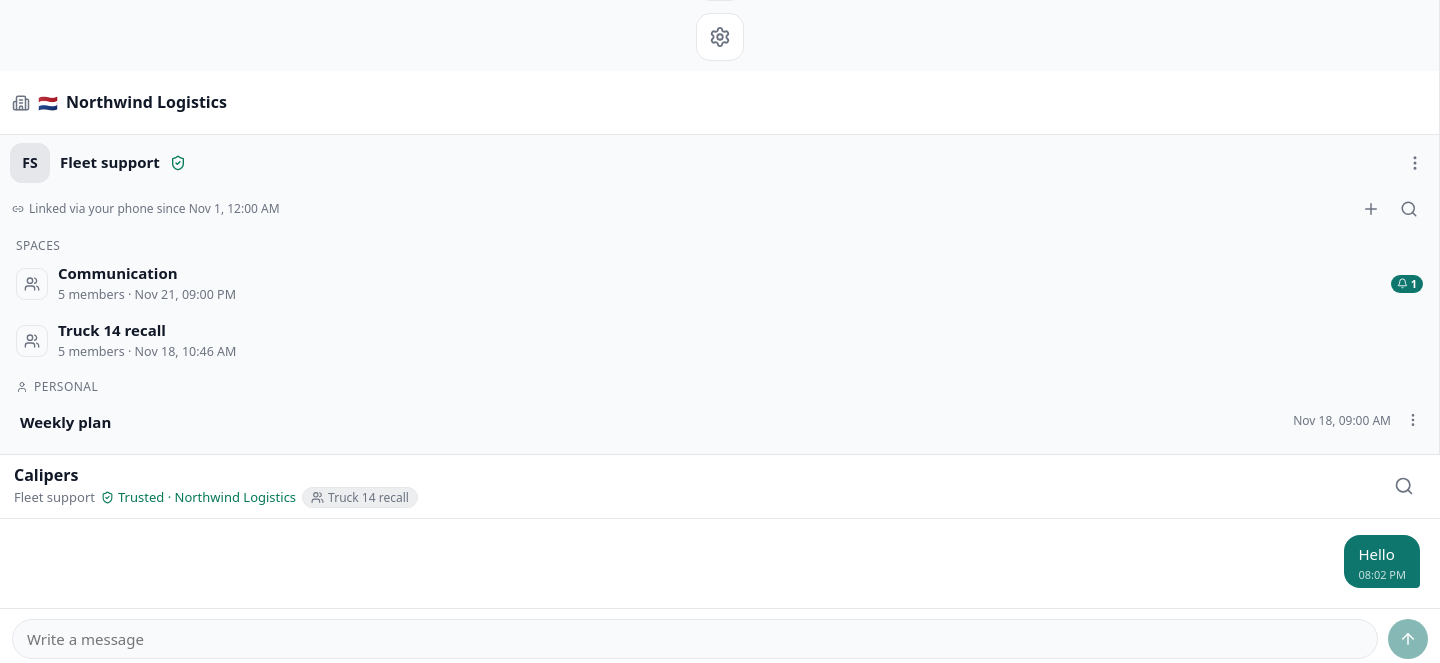
Test: an approver sees an approval once (UI-APPR-001, UI-APPR-007) › no card in any of their conversations, one item in the Notifications, and the badge counts it once
The width and height of the screenshot is (1440, 663).
expect the element with class "transcript" is shown: met, box left=1344, top=534, right=1420, bottom=588
expect the text "asks for your approval" is not shown: met
Step 1. Click the button with class "space-row" that starts with "Communication" → point(32, 284), box left=8, top=256, right=1431, bottom=311
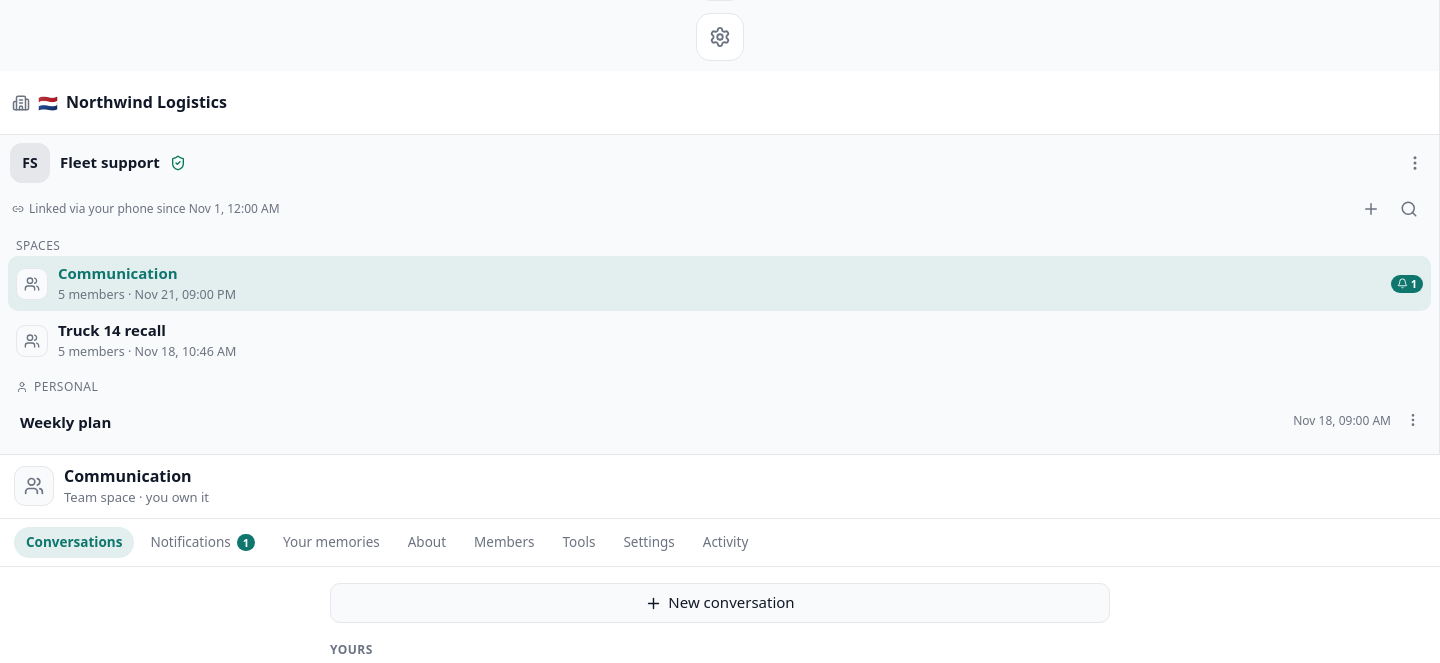
expect the element with class "notifications-count" below "Team space · you own it" reads "1": met, box left=243, top=534, right=249, bottom=550
Step 2. Click the tab "Notifications 1" → point(203, 542), box left=138, top=526, right=267, bottom=558
(page scrolled)
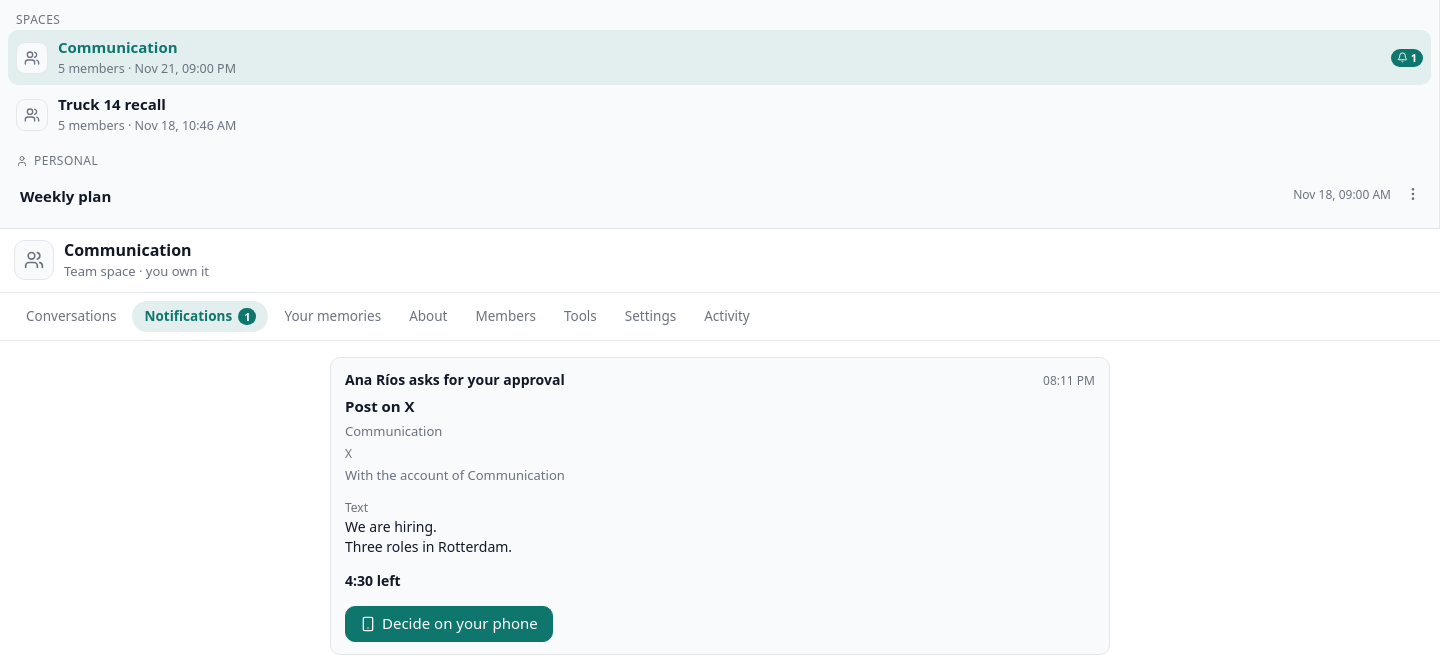
expect the button "Decide on your phone" is shown: met, box left=345, top=606, right=553, bottom=642
expect the text with class "tool-account" reads "With the account of Communication": met, box left=345, top=466, right=565, bottom=484
